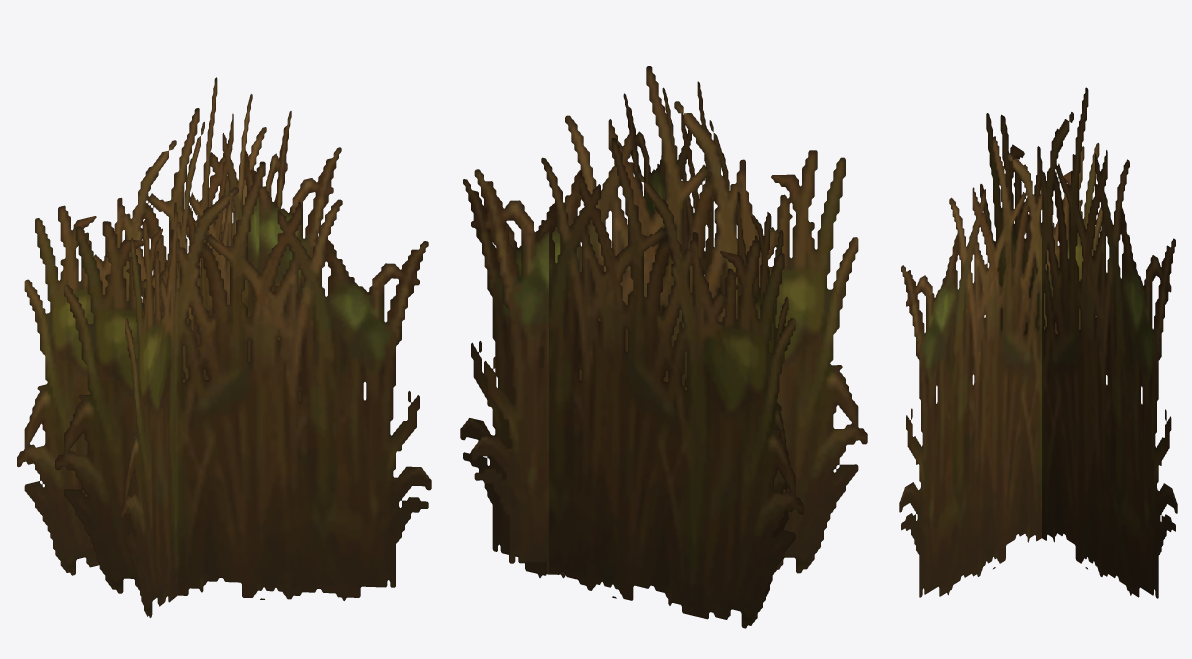
The model's file is town_riverplant01.fbx.
The picture shows the model from 3 angles, left to right: view 1: azimuth 30°, elevation 25°; view 2: azimuth 150°, elevation 25°; view 3: azimuth 270°, elevation 25°; orthographic projection. The views are drawn at different scales.
Parts seen in each view (by area): view 1: town_layout_riverplant01; view 2: town_layout_riverplant01; view 3: town_layout_riverplant01.
Boxes of the visible parts, x1,y1,x2,y2 form: town_layout_riverplant01: (17,77,431,617); town_layout_riverplant01: (460,66,867,628); town_layout_riverplant01: (899,87,1177,598).
Size of the model in its own units: 1.42 by 2.01 by 1.05.
